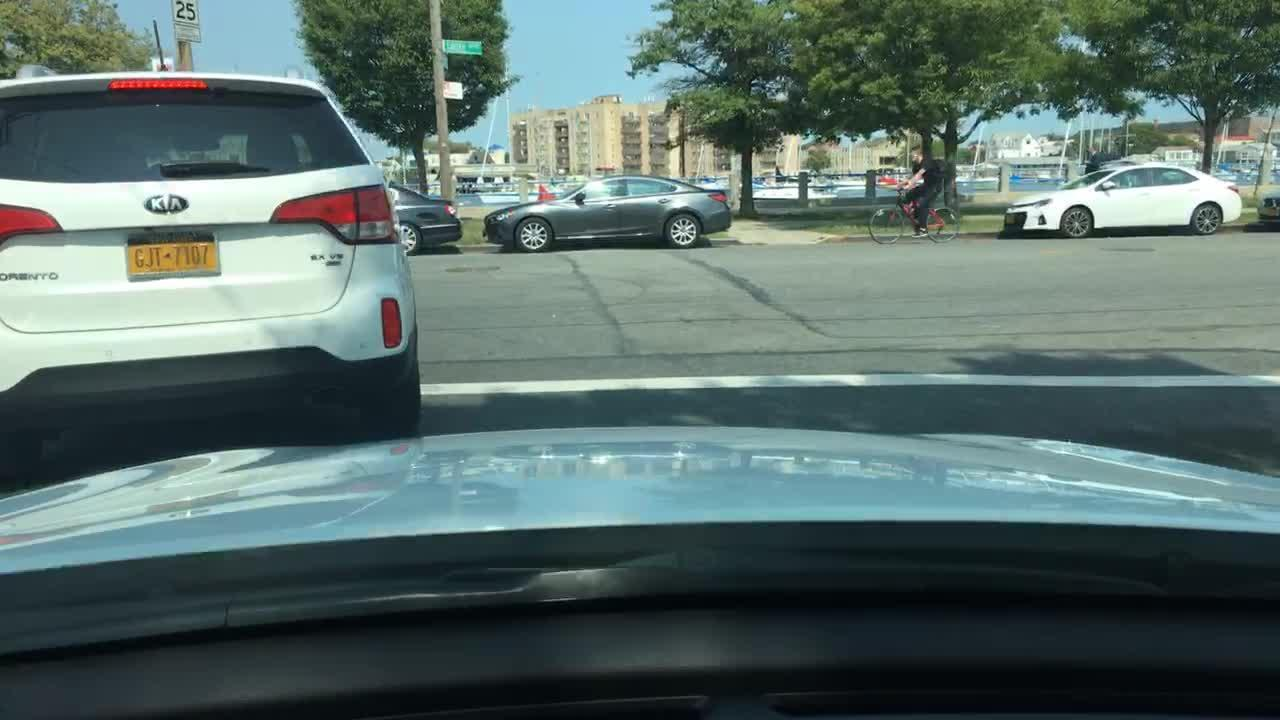kia: (132, 184, 199, 218)
